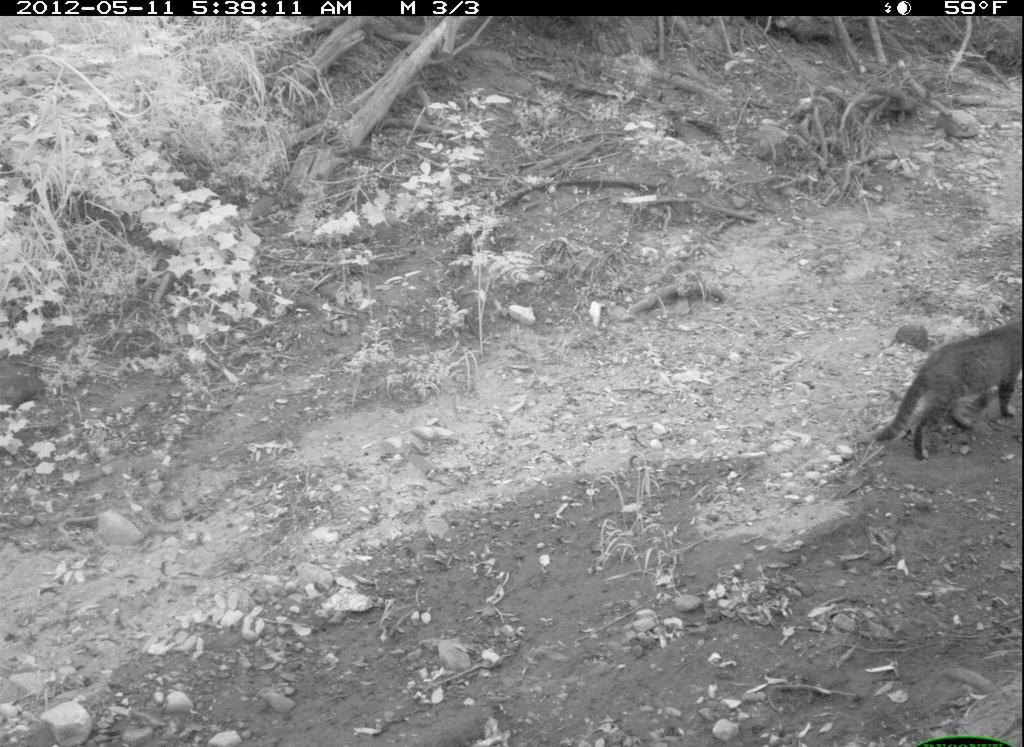cat: (873, 302, 1024, 483)
